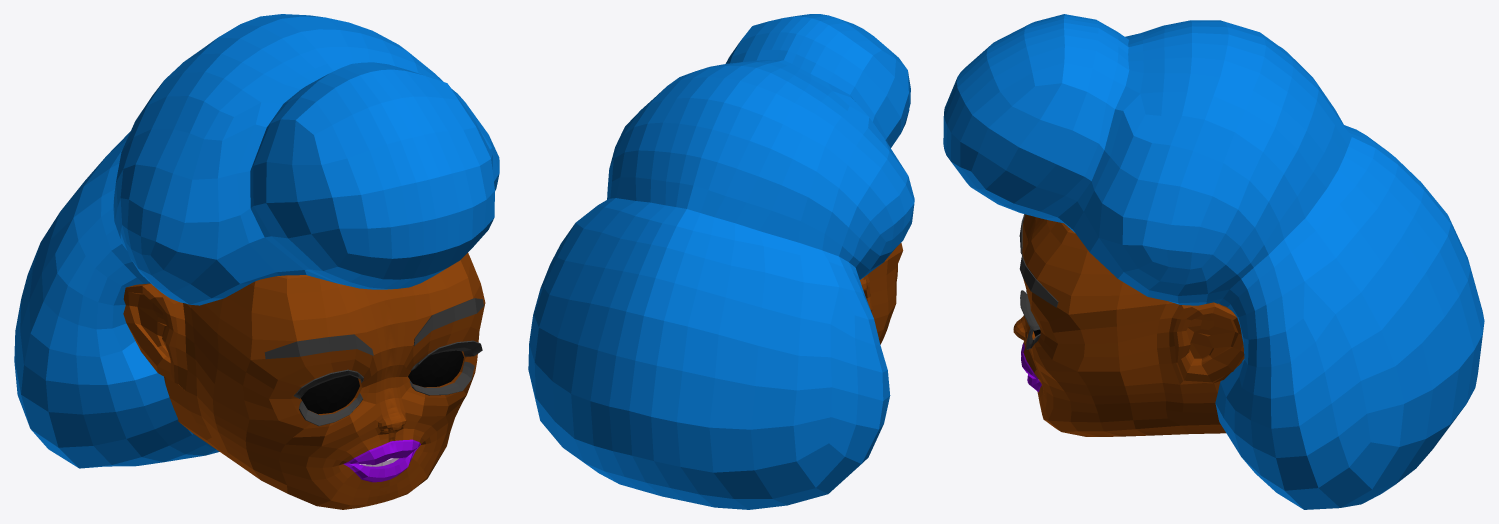
The model's file is DemonLava.fbx.
The picture shows the model from 3 angles, left to right: view 1: azimuth 30°, elevation 25°; view 2: azimuth 150°, elevation 25°; view 3: azimuth 270°, elevation 25°; orthographic projection. The views are drawn at different scales.
Visible parts, largest first — view 1: LavaFace; view 2: LavaFace; view 3: LavaFace.
Part boxes in pixels (x1,y1,x2,y2): LavaFace: [14, 14, 499, 509]; LavaFace: [528, 14, 914, 509]; LavaFace: [943, 14, 1484, 509].
Size of the model in its own units: 0.4083 by 0.4235 by 0.4785.
